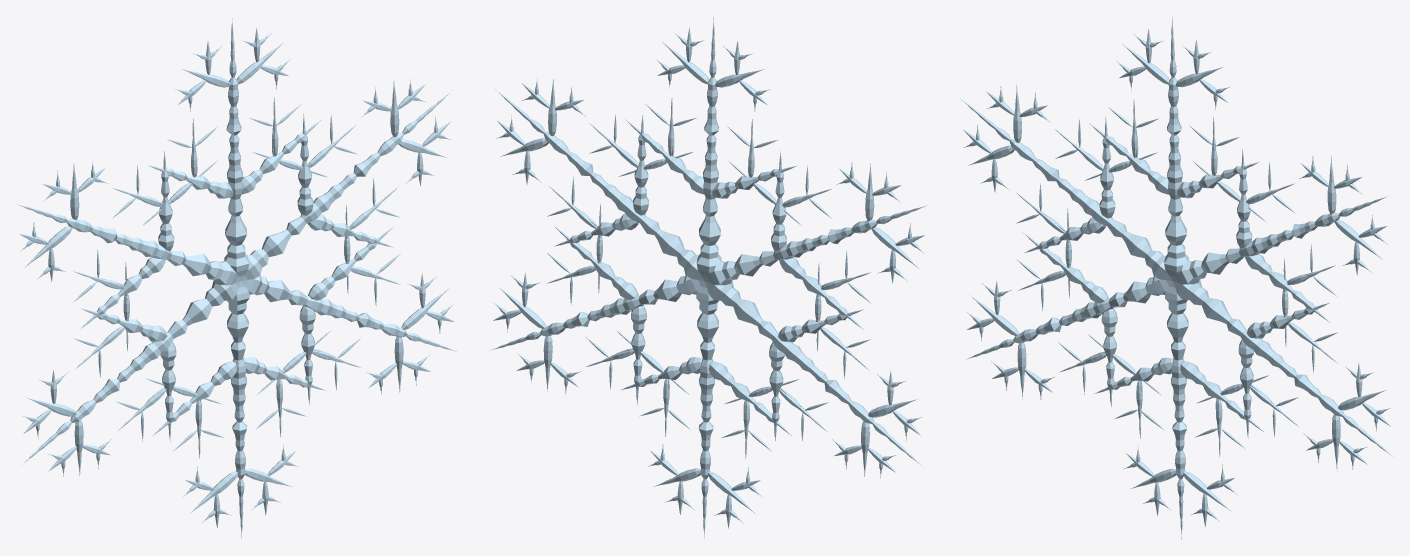
File: snowflake01.glb
The picture shows the model from 3 angles, left to right: view 1: azimuth 30°, elevation 25°; view 2: azimuth 150°, elevation 25°; view 3: azimuth 330°, elevation 25°; orthographic projection.
Parts seen in each view (by area): view 1: Snowflake; view 2: Snowflake; view 3: Snowflake.
Boxes of the visible parts, x1,y1,x2,y2 form: Snowflake: (17, 18, 456, 537); Snowflake: (491, 17, 926, 538); Snowflake: (960, 16, 1393, 539).
Bounding box in the file's own units: 7.71 × 8.8 × 0.3793.
